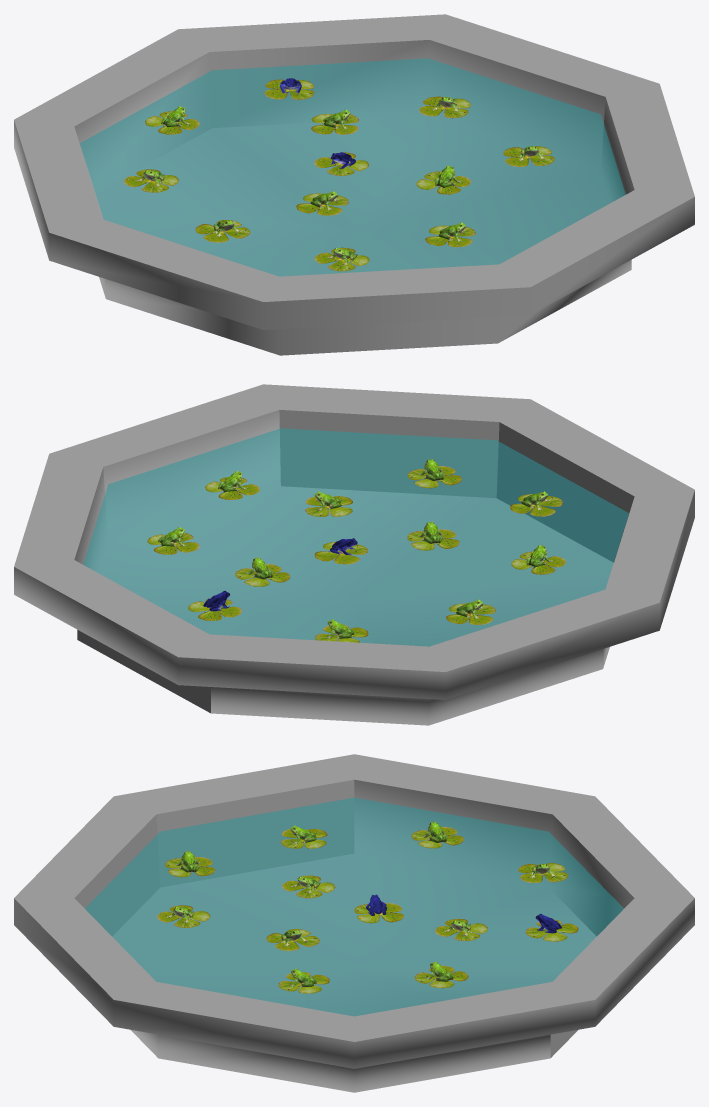
The model's file is level 5.fbx.
The picture shows the model from 3 angles, top to bottom: view 1: azimuth 30°, elevation 25°; view 2: azimuth 150°, elevation 25°; view 3: azimuth 270°, elevation 25°; orthographic projection. The views are drawn at different scales.
Visible parts, largest first — view 1: pond, Duck_weed_leaf3, Duck_weed_leaf12, Duck_weed_leaf1, Duck_weed_leaf10, Duck_weed_leaf11, Duck_weed_leaf18, Duck_weed_leaf9, Duck_weed_leaf17, Duck_weed_leaf16, Duck_weed_leaf2, Duck_weed_leaf (+1 smaller); view 2: pond, Duck_weed_leaf2, Duck_weed_leaf9, Duck_weed_leaf18, Duck_weed_leaf16, Duck_weed_leaf, Duck_weed_leaf10, Duck_weed_leaf1, Duck_weed_leaf17, Duck_weed_leaf11, Duck_weed_leaf3, Duck_weed_leaf12; view 3: pond, Duck_weed_leaf4, Duck_weed_leaf2, Duck_weed_leaf16, Duck_weed_leaf, Duck_weed_leaf17, Duck_weed_leaf9, Duck_weed_leaf18, Duck_weed_leaf10, Duck_weed_leaf1, Duck_weed_leaf11, Duck_weed_leaf3 (+1 smaller).
Part boxes in pixels (<box>): pond: <box>14,14,694,355</box>; Duck_weed_leaf3: <box>419,96,470,118</box>; Duck_weed_leaf12: <box>503,146,554,166</box>; Duck_weed_leaf1: <box>264,79,314,99</box>; Duck_weed_leaf10: <box>123,169,178,192</box>; Duck_weed_leaf11: <box>195,220,250,242</box>; Duck_weed_leaf18: <box>314,247,369,271</box>; Duck_weed_leaf9: <box>296,193,348,215</box>; Duck_weed_leaf17: <box>416,171,471,194</box>; Duck_weed_leaf16: <box>425,225,475,247</box>; Duck_weed_leaf2: <box>314,152,368,175</box>; Duck_weed_leaf: <box>311,114,358,134</box>; pond: <box>14,384,694,725</box>; Duck_weed_leaf2: <box>314,542,367,564</box>; Duck_weed_leaf9: <box>407,529,459,550</box>; Duck_weed_leaf18: <box>510,494,562,516</box>; Duck_weed_leaf16: <box>407,466,461,488</box>; Duck_weed_leaf: <box>235,564,290,586</box>; Duck_weed_leaf10: <box>446,603,495,624</box>; Duck_weed_leaf1: <box>188,598,241,620</box>; Duck_weed_leaf17: <box>305,496,352,516</box>; Duck_weed_leaf11: <box>511,551,566,574</box>; Duck_weed_leaf3: <box>147,532,199,554</box>; Duck_weed_leaf12: <box>205,477,259,499</box>; pond: <box>14,754,694,1092</box>; Duck_weed_leaf4: <box>518,863,567,883</box>; Duck_weed_leaf2: <box>354,903,403,923</box>; Duck_weed_leaf16: <box>157,905,210,927</box>; Duck_weed_leaf: <box>435,919,487,941</box>; Duck_weed_leaf17: <box>266,929,319,950</box>; Duck_weed_leaf9: <box>282,875,335,898</box>; Duck_weed_leaf18: <box>165,857,214,877</box>; Duck_weed_leaf10: <box>411,827,463,848</box>; Duck_weed_leaf1: <box>525,919,578,941</box>; Duck_weed_leaf11: <box>281,828,327,848</box>; Duck_weed_leaf3: <box>414,965,468,988</box>.
Bounding box in the file's own units: 458 × 57.54 × 458.
Materials: 5 (3 with a texture image).
